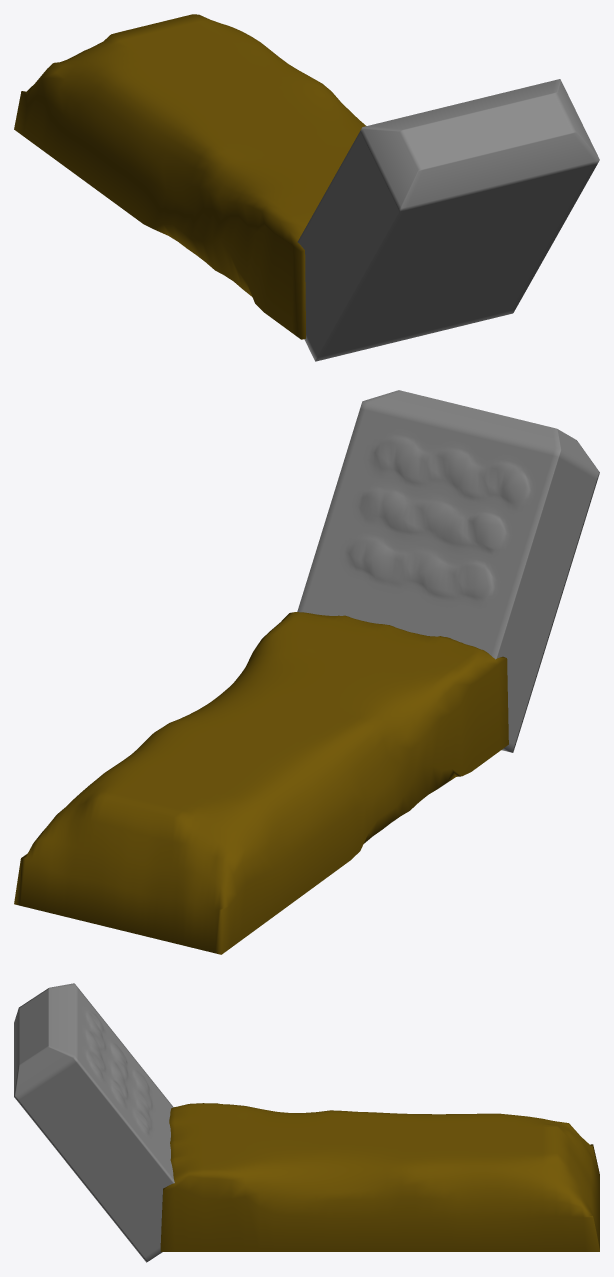
File: Tombstones.fbx
The picture shows the model from 3 angles, top to bottom: view 1: azimuth 30°, elevation 25°; view 2: azimuth 150°, elevation 25°; view 3: azimuth 270°, elevation 25°; orthographic projection. The views are drawn at different scales.
Visible parts, largest first — view 1: pCube3; view 2: pCube3; view 3: pCube3.
Part boxes in pixels (x1=…): pCube3: x1=14, y1=14, x2=599, y2=361; pCube3: x1=14, y1=390, x2=599, y2=954; pCube3: x1=14, y1=983, x2=599, y2=1262.
Bounding box in the file's own units: 7.86 × 9.88 × 25.14.
